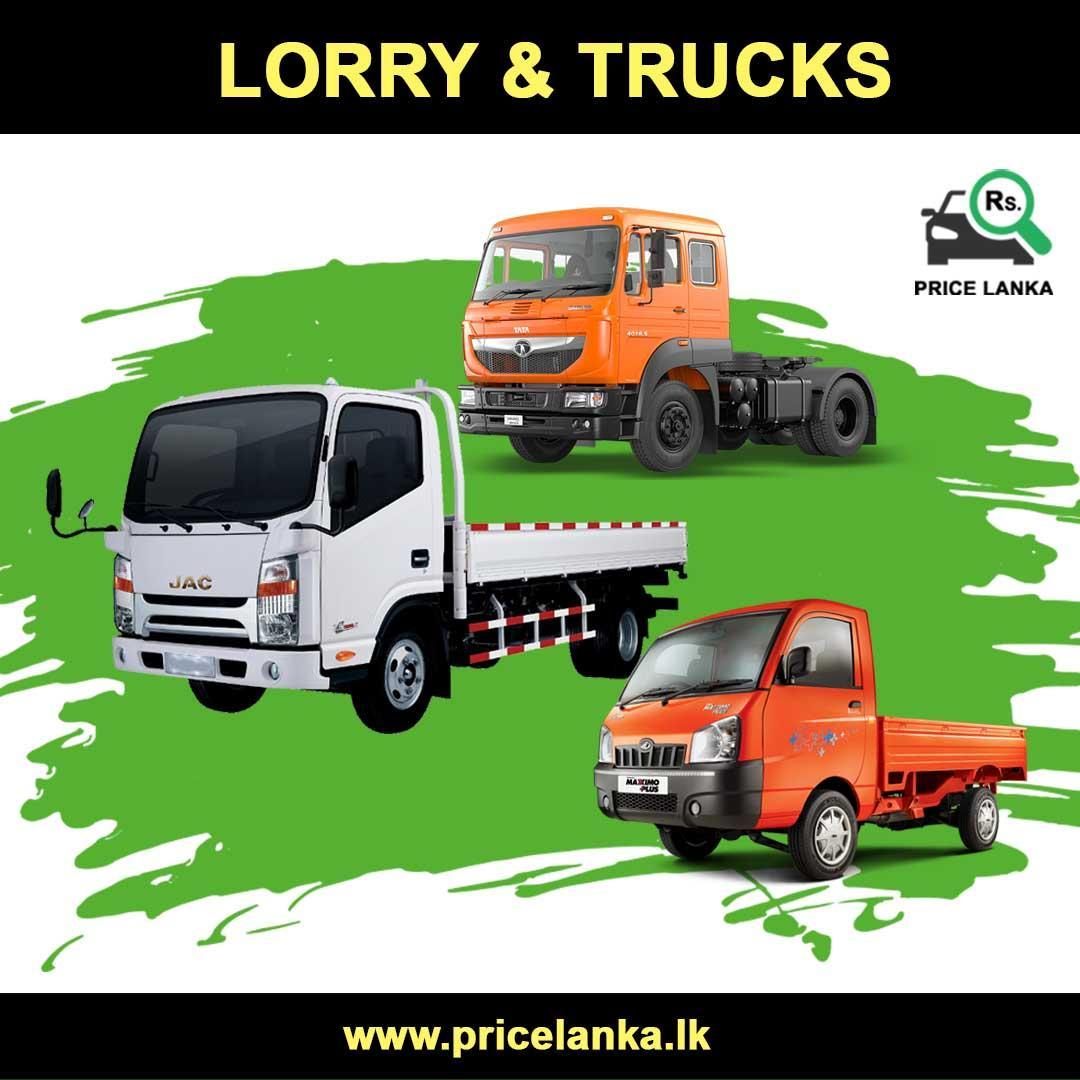truck: (48, 379, 688, 736), (593, 596, 1027, 880), (457, 207, 876, 475)
